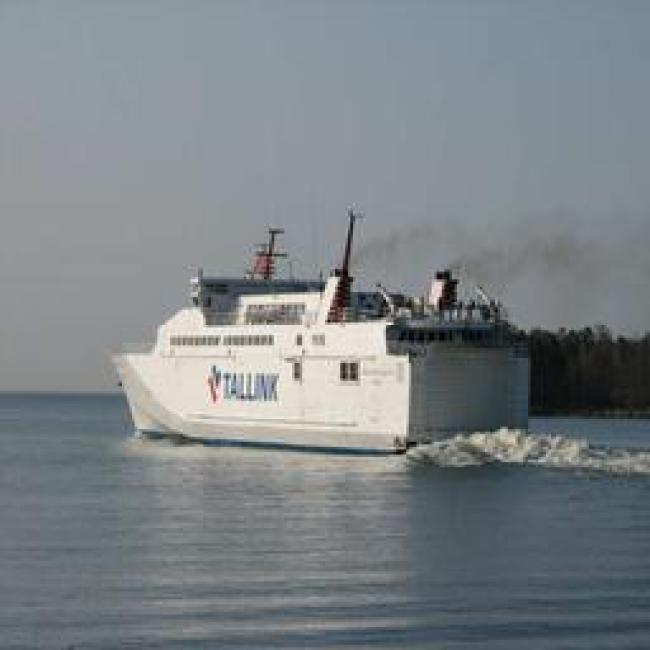Ship: (95, 268, 571, 482)
